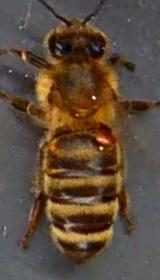varroa_mite: (88, 122, 124, 156)
